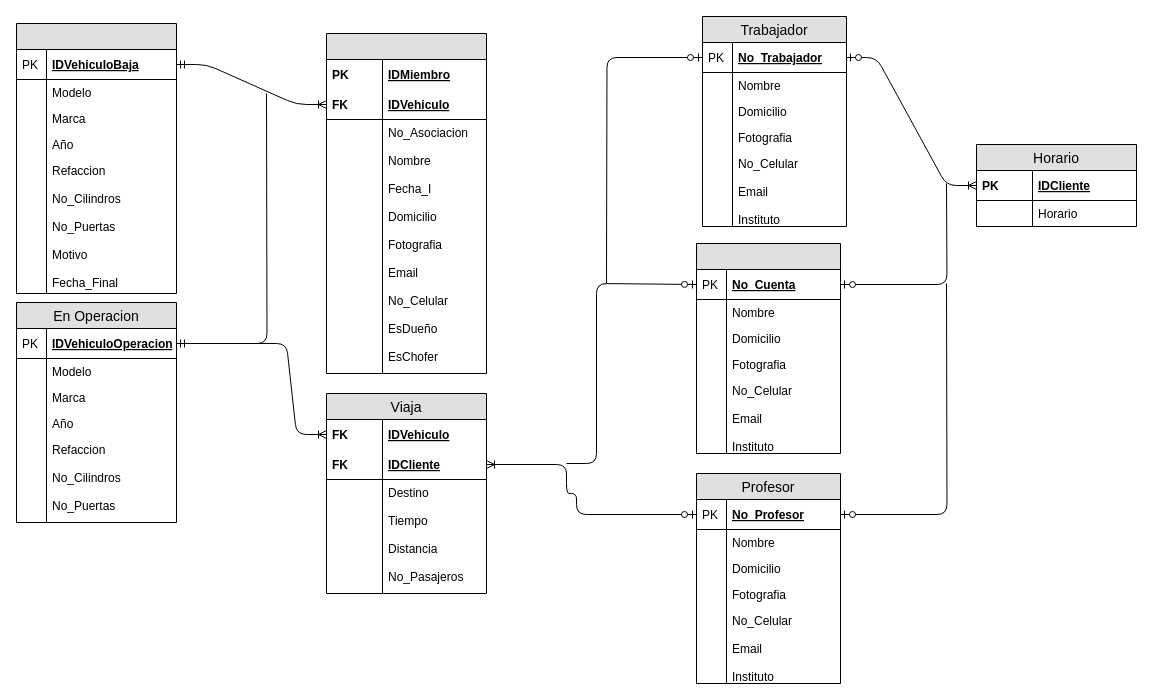
Image size: 1153x700. Some labels were removed from this diagram. The shapes that lost their labels are listed below. From the top down, each one's box as (x1, y1, x2, y2) in pixels, then its label:
(16, 22, 176, 294): DadoDeBaja
(326, 32, 486, 374): MiembroAsociacion
(696, 242, 840, 454): Estudiante
